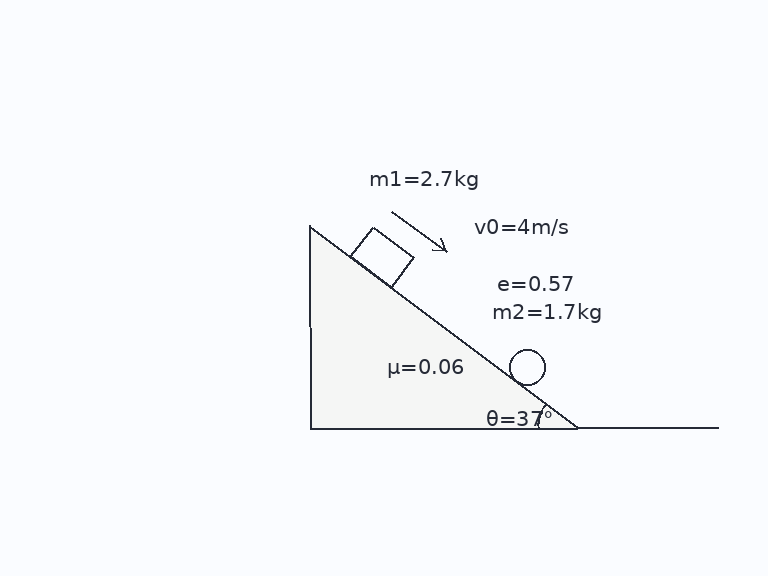ball: (507, 347, 547, 387)
block: (348, 224, 415, 289)
ramp: (308, 224, 580, 430)
